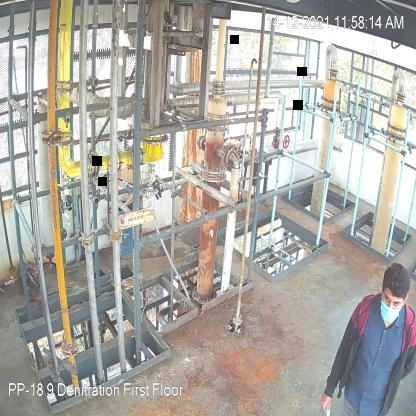no_goggles: (380, 293, 404, 309)
